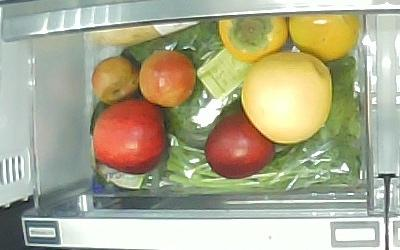apple: (93, 99, 168, 176), (205, 112, 275, 179)
grapefruit: (241, 51, 332, 143)
persimmon: (289, 14, 361, 61), (218, 15, 288, 63)
prune: (140, 51, 196, 107), (92, 57, 140, 105)
